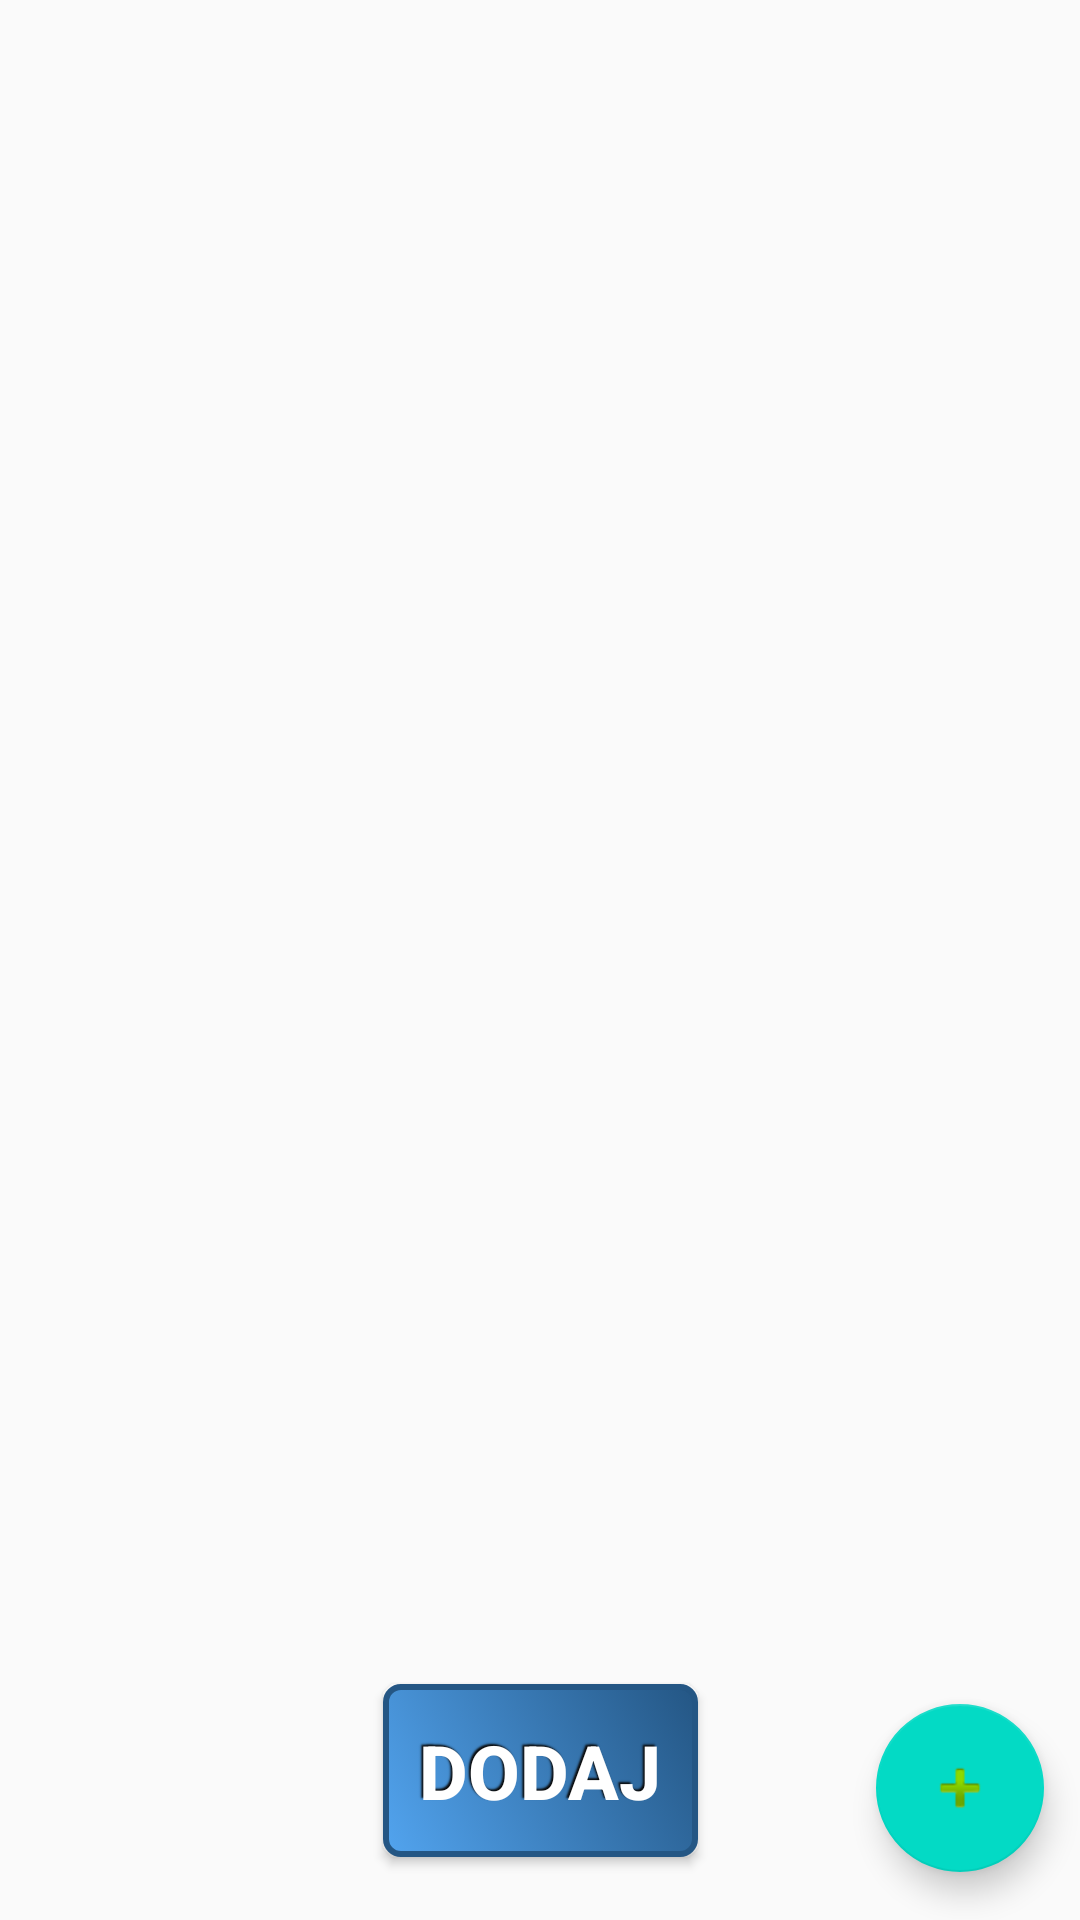

Icon bounding boxes for this 1080*1920 phone screenshot, format (x1, y1, x2, y2):
add: (876, 1704, 1044, 1872)
